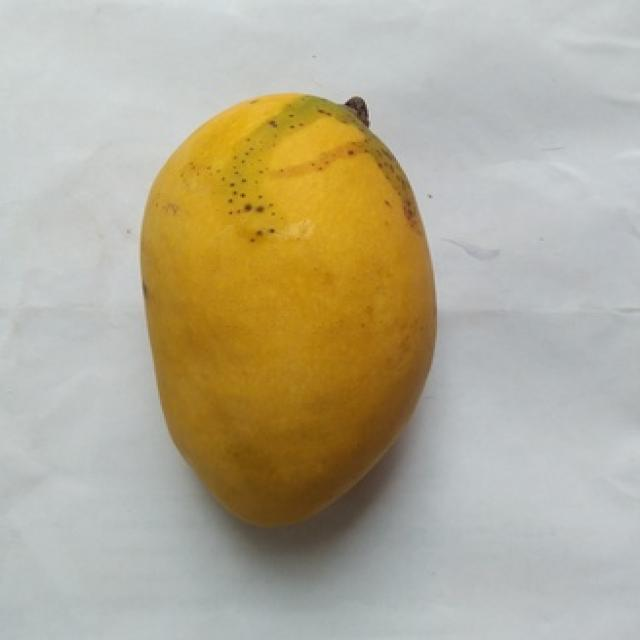Mango: (140, 94, 431, 520)
